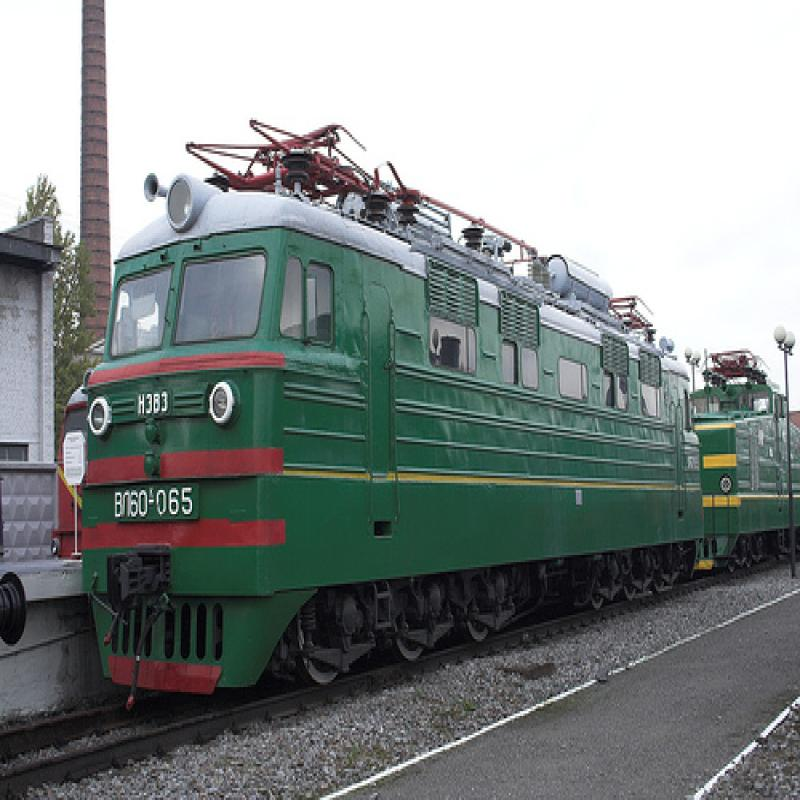train: (81, 117, 799, 703)
